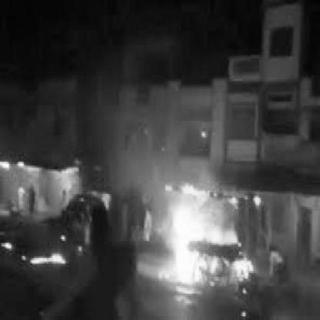Fire: (148, 182, 255, 300)
